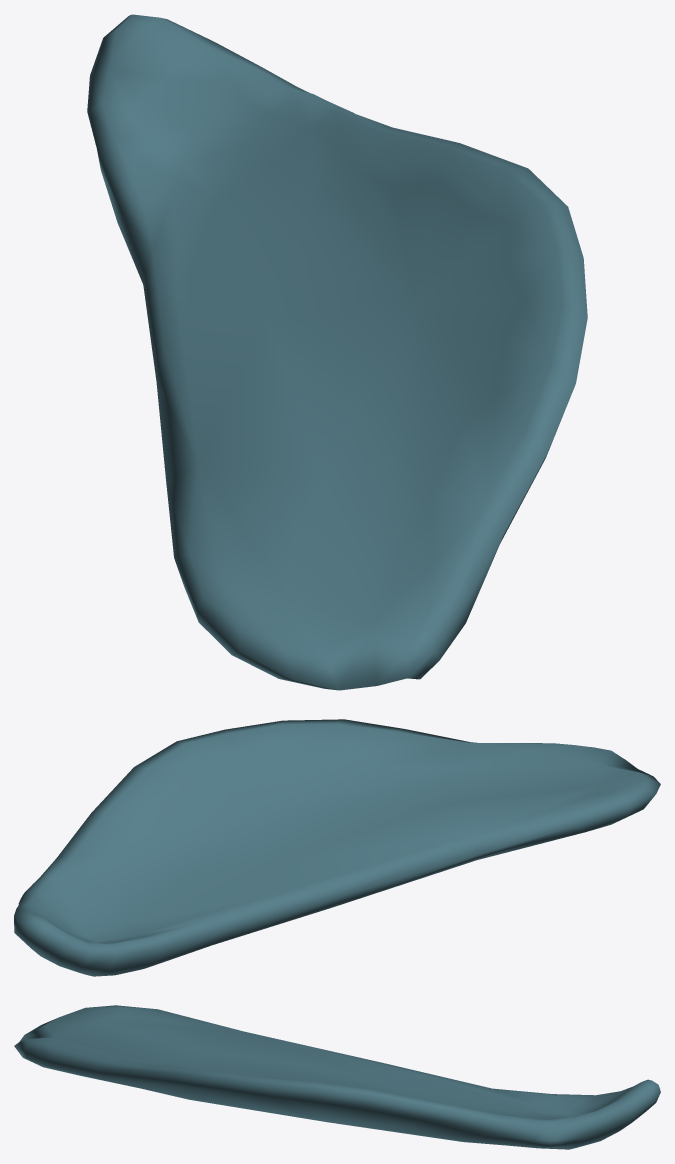
The model's file is Long_plantar_ligament_2nd_metatarsal_base_right.glb.
The picture shows the model from 3 angles, top to bottom: view 1: azimuth 30°, elevation 25°; view 2: azimuth 150°, elevation 25°; view 3: azimuth 270°, elevation 25°; orthographic projection. The views are drawn at different scales.
Parts seen in each view (by area): view 1: Long_plantar_ligament_on_2d_metatarsal_base.r_Generated_Mesh; view 2: Long_plantar_ligament_on_2d_metatarsal_base.r_Generated_Mesh; view 3: Long_plantar_ligament_on_2d_metatarsal_base.r_Generated_Mesh.
Boxes of the visible parts, bbox=[...] form: Long_plantar_ligament_on_2d_metatarsal_base.r_Generated_Mesh: bbox=[87, 14, 587, 690]; Long_plantar_ligament_on_2d_metatarsal_base.r_Generated_Mesh: bbox=[14, 719, 660, 976]; Long_plantar_ligament_on_2d_metatarsal_base.r_Generated_Mesh: bbox=[14, 1005, 660, 1149].
Size of the model in its own units: 0.00585 by 0.00163 by 0.011.
